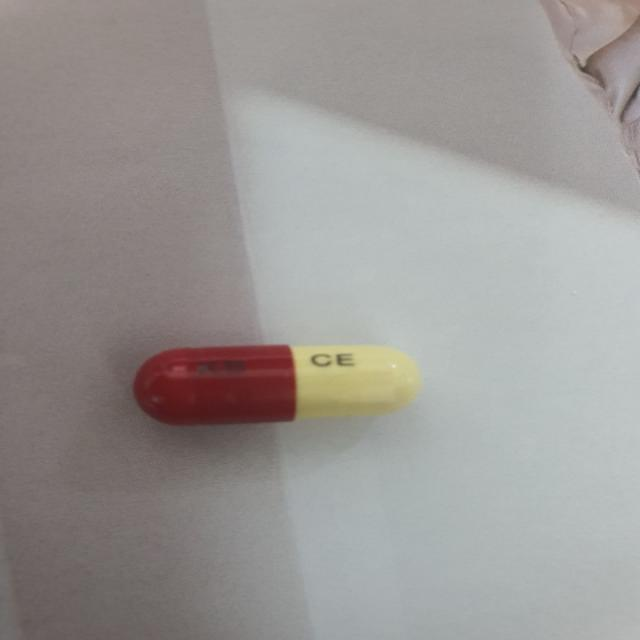pill: (115, 334, 428, 426)
